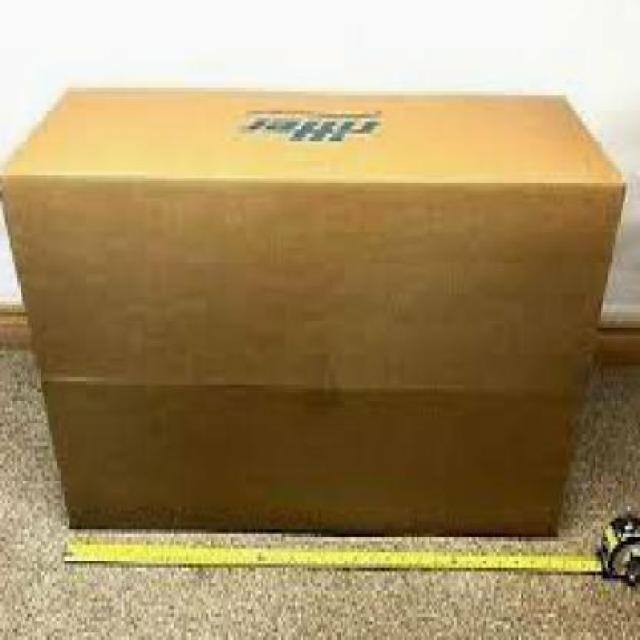box: (0, 73, 631, 575)
